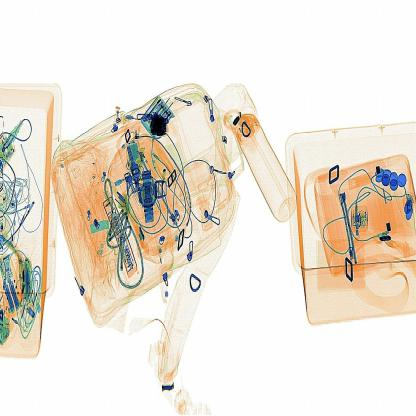scissors: (141, 109, 176, 147)
